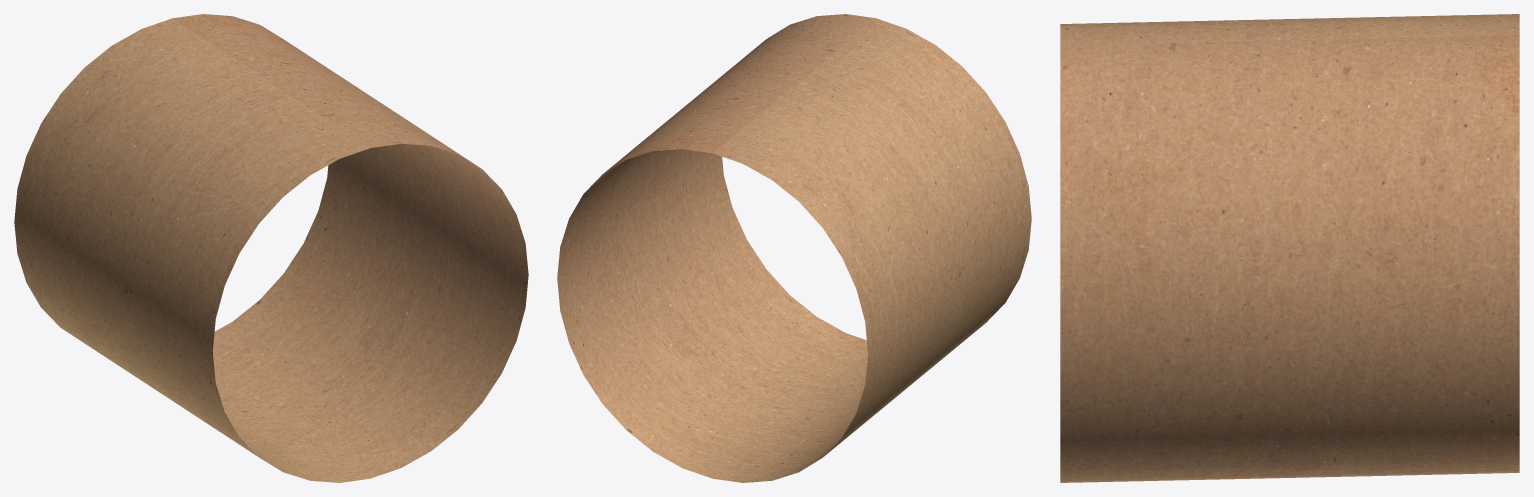
The picture shows the model from 3 angles, left to right: view 1: azimuth 30°, elevation 25°; view 2: azimuth 150°, elevation 25°; view 3: azimuth 270°, elevation 25°; orthographic projection. The views are drawn at different scales.
Parts seen in each view (by area): view 1: Cylinder; view 2: Cylinder; view 3: Cylinder.
Part boxes in pixels (x1=…): Cylinder: x1=14, y1=14, x2=528, y2=482; Cylinder: x1=557, y1=14, x2=1031, y2=482; Cylinder: x1=1060, y1=14, x2=1519, y2=482.
Size of the model in its own units: 2.1 by 2 by 2.
1 material, 1 textured.
